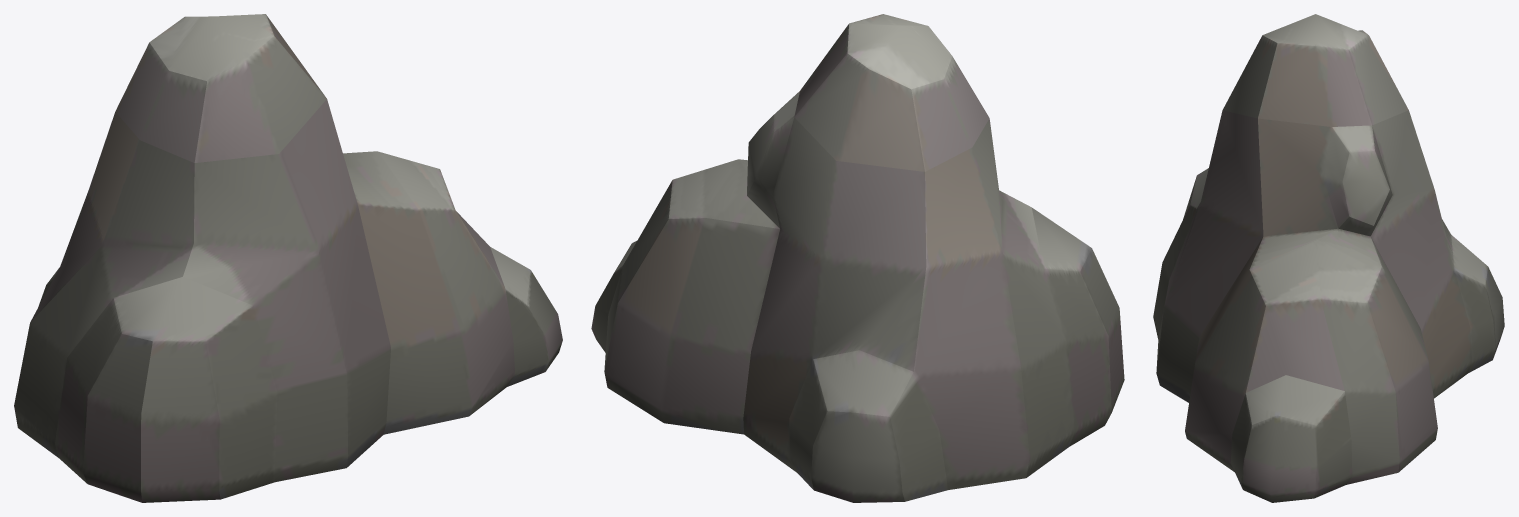
File: stone.fbx
The picture shows the model from 3 angles, left to right: view 1: azimuth 30°, elevation 25°; view 2: azimuth 150°, elevation 25°; view 3: azimuth 270°, elevation 25°; orthographic projection. The views are drawn at different scales.
Visible parts, largest first — view 1: model; view 2: model; view 3: model.
Part boxes in pixels (x1,y1,x2,y2): model: (14,14,562,502); model: (591,14,1124,502); model: (1153,14,1504,502).
Bounding box in the file's own units: 0.9489 × 0.7269 × 0.6584.
Materials: 1 (1 with a texture image).
